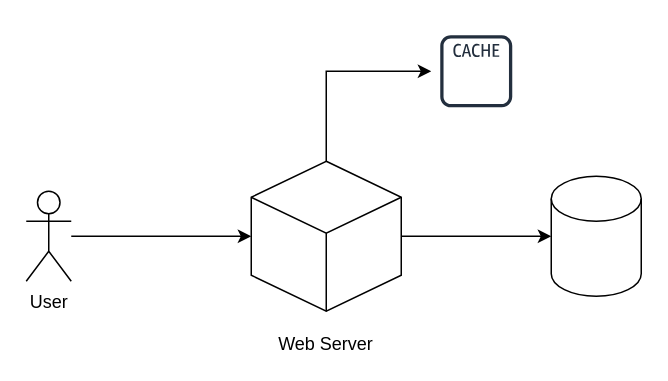
Some shapes in this 668 by 381 pixel diagram are drawn without their labels. The centre of each missing label's shape, as x and y in pixels:
"Database" goes at [595,235].
"Memory Cache" goes at [475,70].
